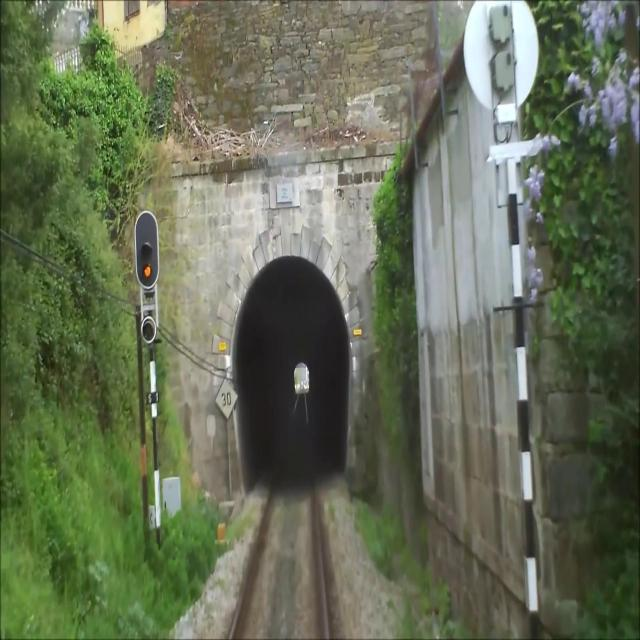rail-track: (234, 390, 323, 639)
